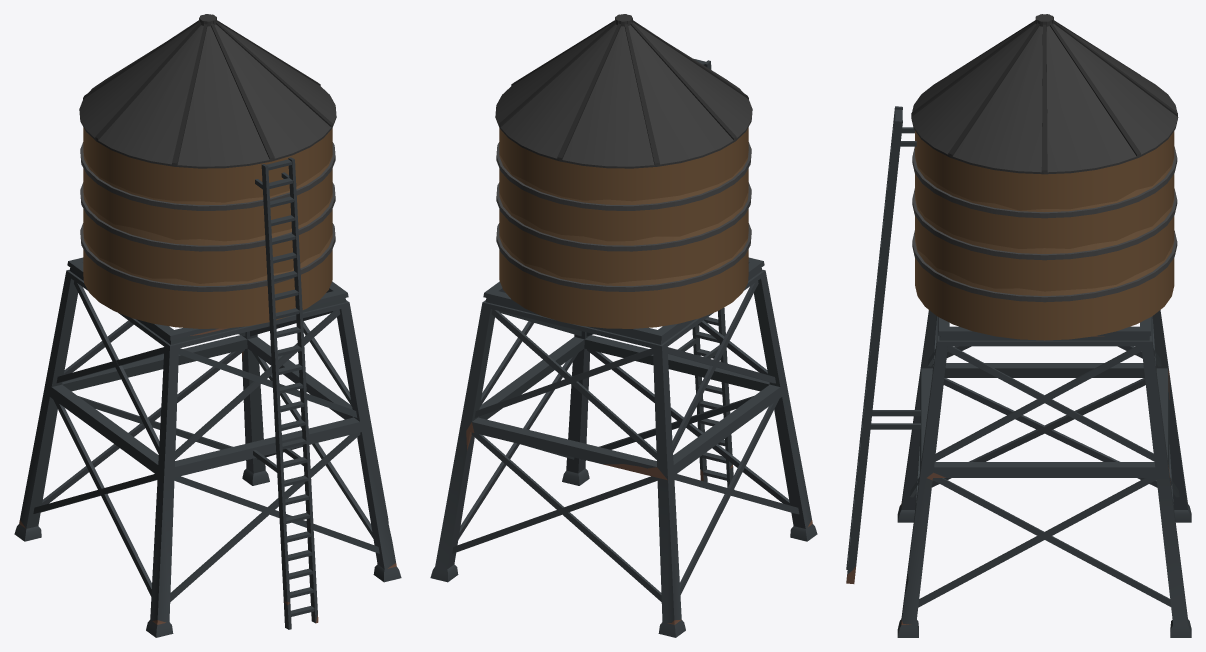
Rendered from SM_BuildingsDecor_72.fbx.
3 renders of one model, left to right at view 1: azimuth 30°, elevation 25°; view 2: azimuth 150°, elevation 25°; view 3: azimuth 270°, elevation 25°, orthographic. The views are drawn at different scales.
Visible parts, largest first — view 1: SM_BuildingsDecor_72; view 2: SM_BuildingsDecor_72; view 3: SM_BuildingsDecor_72.
Boxes of the visible parts, x1,y1,x2,y2 form: SM_BuildingsDecor_72: (14, 14, 401, 637); SM_BuildingsDecor_72: (430, 14, 817, 637); SM_BuildingsDecor_72: (846, 14, 1191, 637).
Size of the model in its own units: 4.91 by 10.3 by 5.77.
